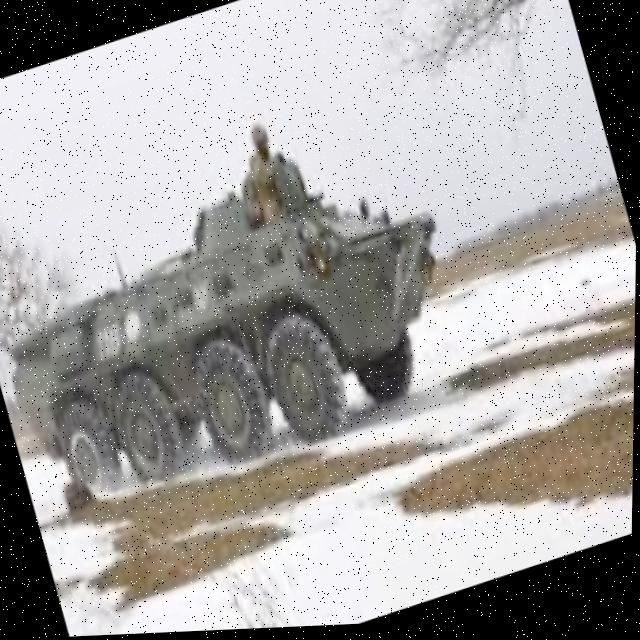MIL_APC: (0, 129, 490, 545)
